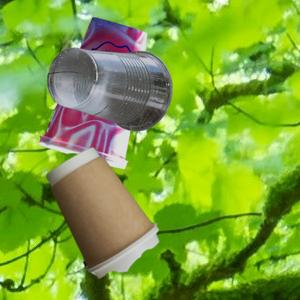cup: (44, 148, 159, 278)
